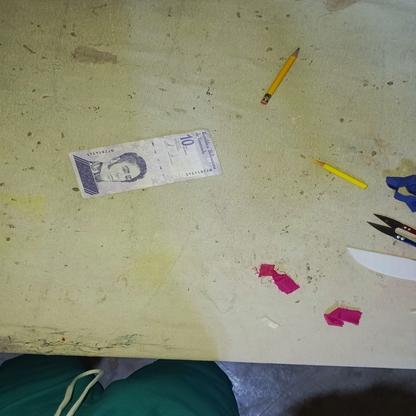ten-front-vef: (66, 127, 222, 199)
